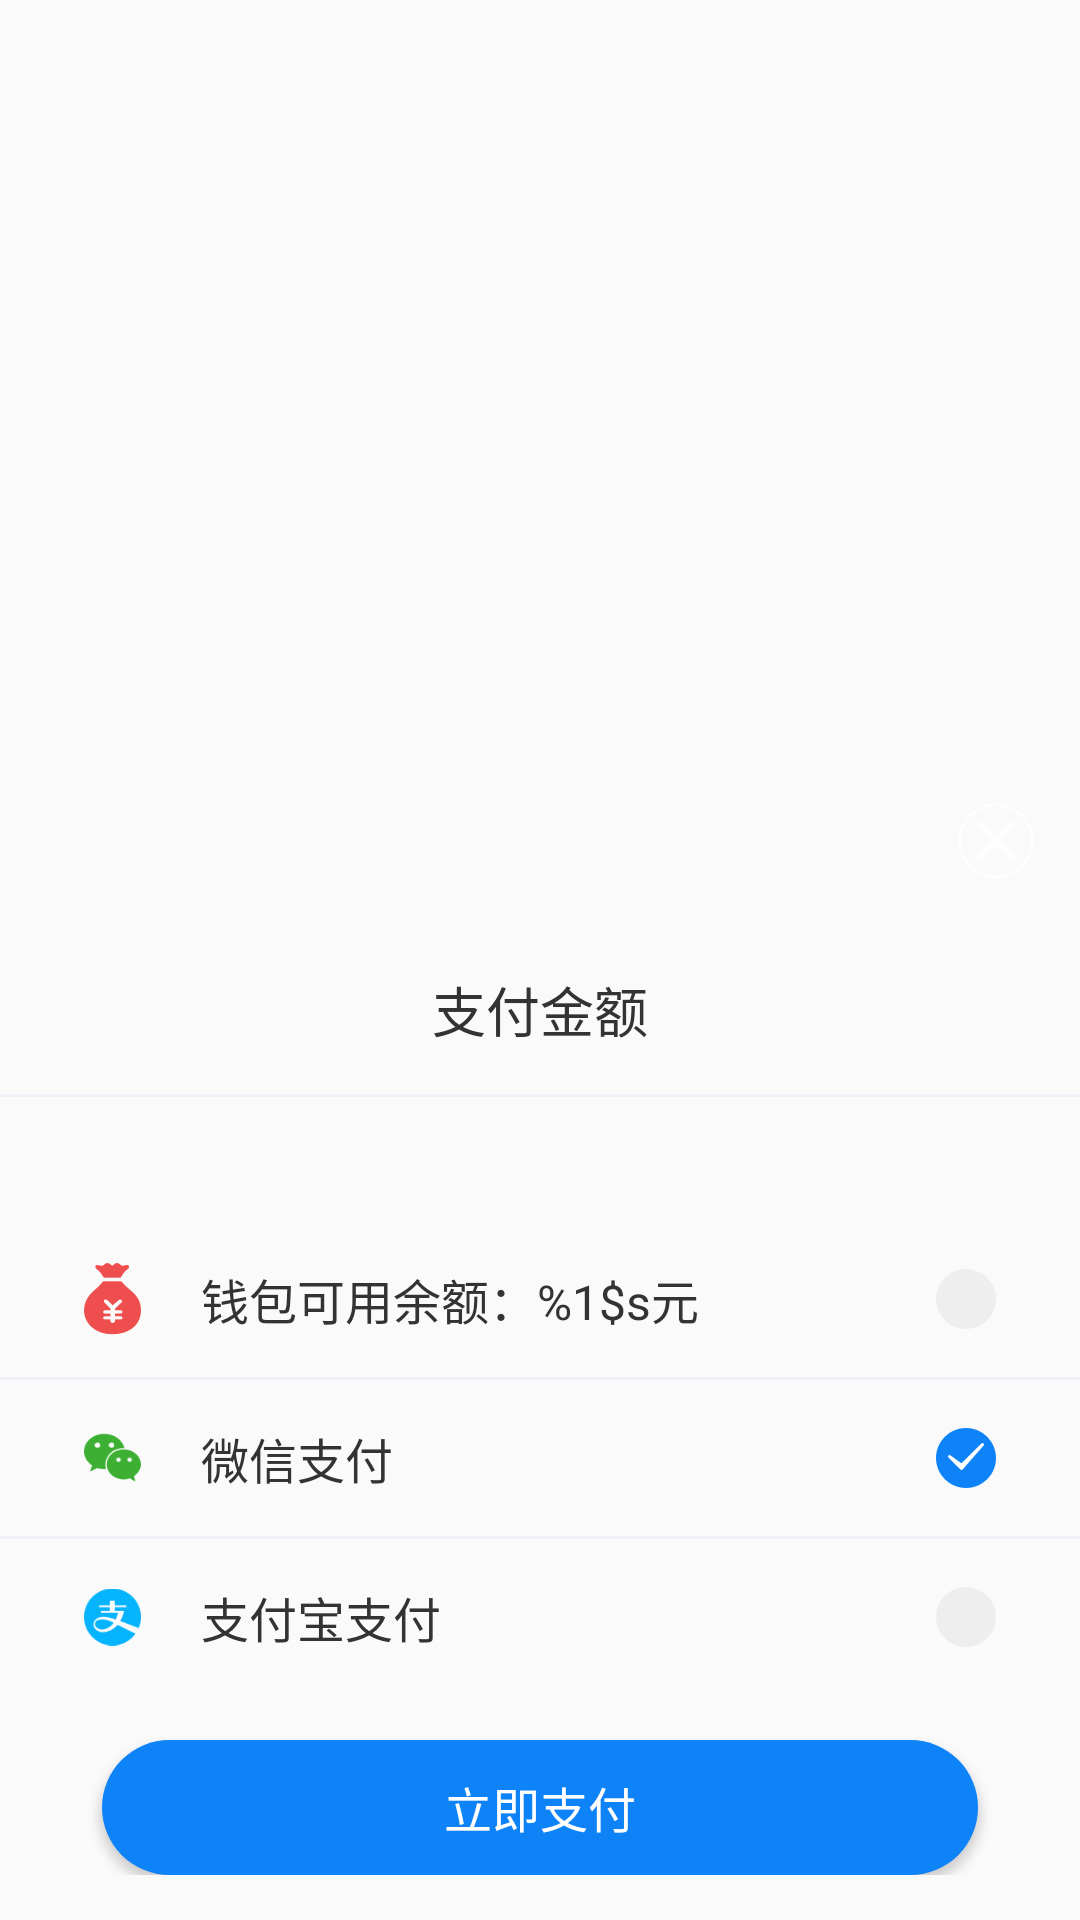

Where icons sit on this 1080*1920 app screen, as {"left": x1, "top": y1, "right": x2, "bottom": y2}:
wallet: {"left": 84, "top": 1263, "right": 141, "bottom": 1335}
